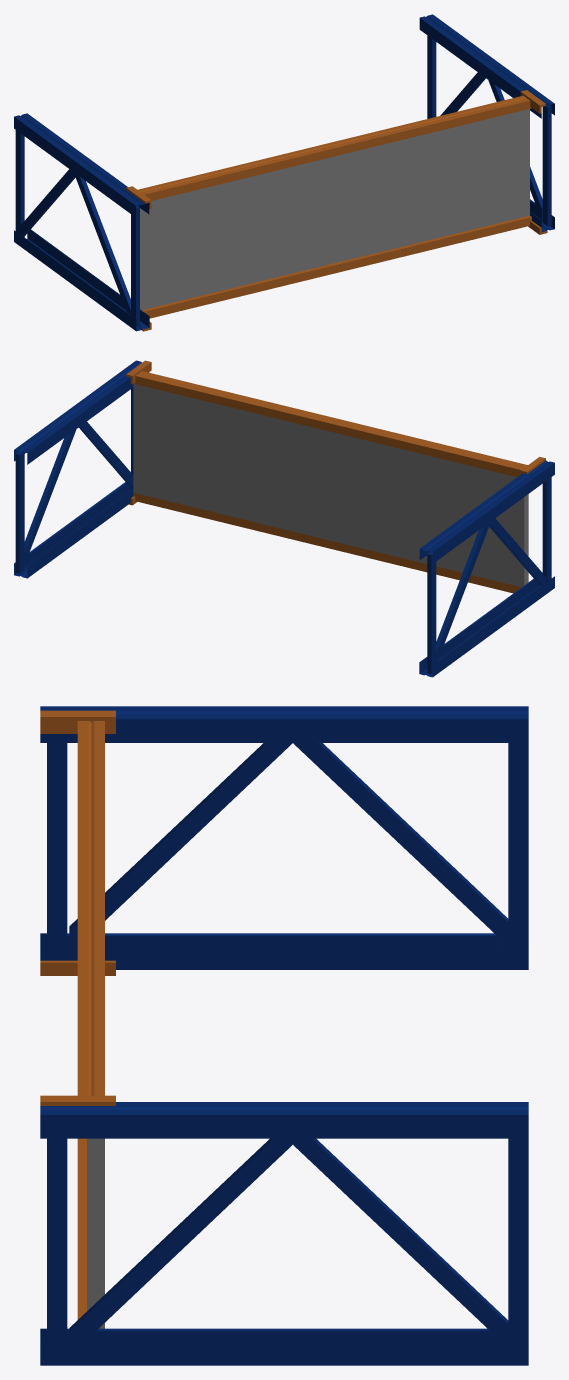
Rendered from ColorShelf.dae.
The picture shows the model from 3 angles, top to bottom: view 1: azimuth 30°, elevation 25°; view 2: azimuth 150°, elevation 25°; view 3: azimuth 270°, elevation 25°; orthographic projection. The views are drawn at different scales.
Parts seen in each view (by area): view 1: mezanine racking.011; view 2: mezanine racking.011; view 3: mezanine racking.011.
Part boxes in pixels (x1,y1,x2,y2): mezanine racking.011: (14, 14, 554, 331); mezanine racking.011: (14, 360, 554, 677); mezanine racking.011: (40, 706, 528, 1365).
Size of the model in its own units: 2.14 by 1.08 by 0.6335.
